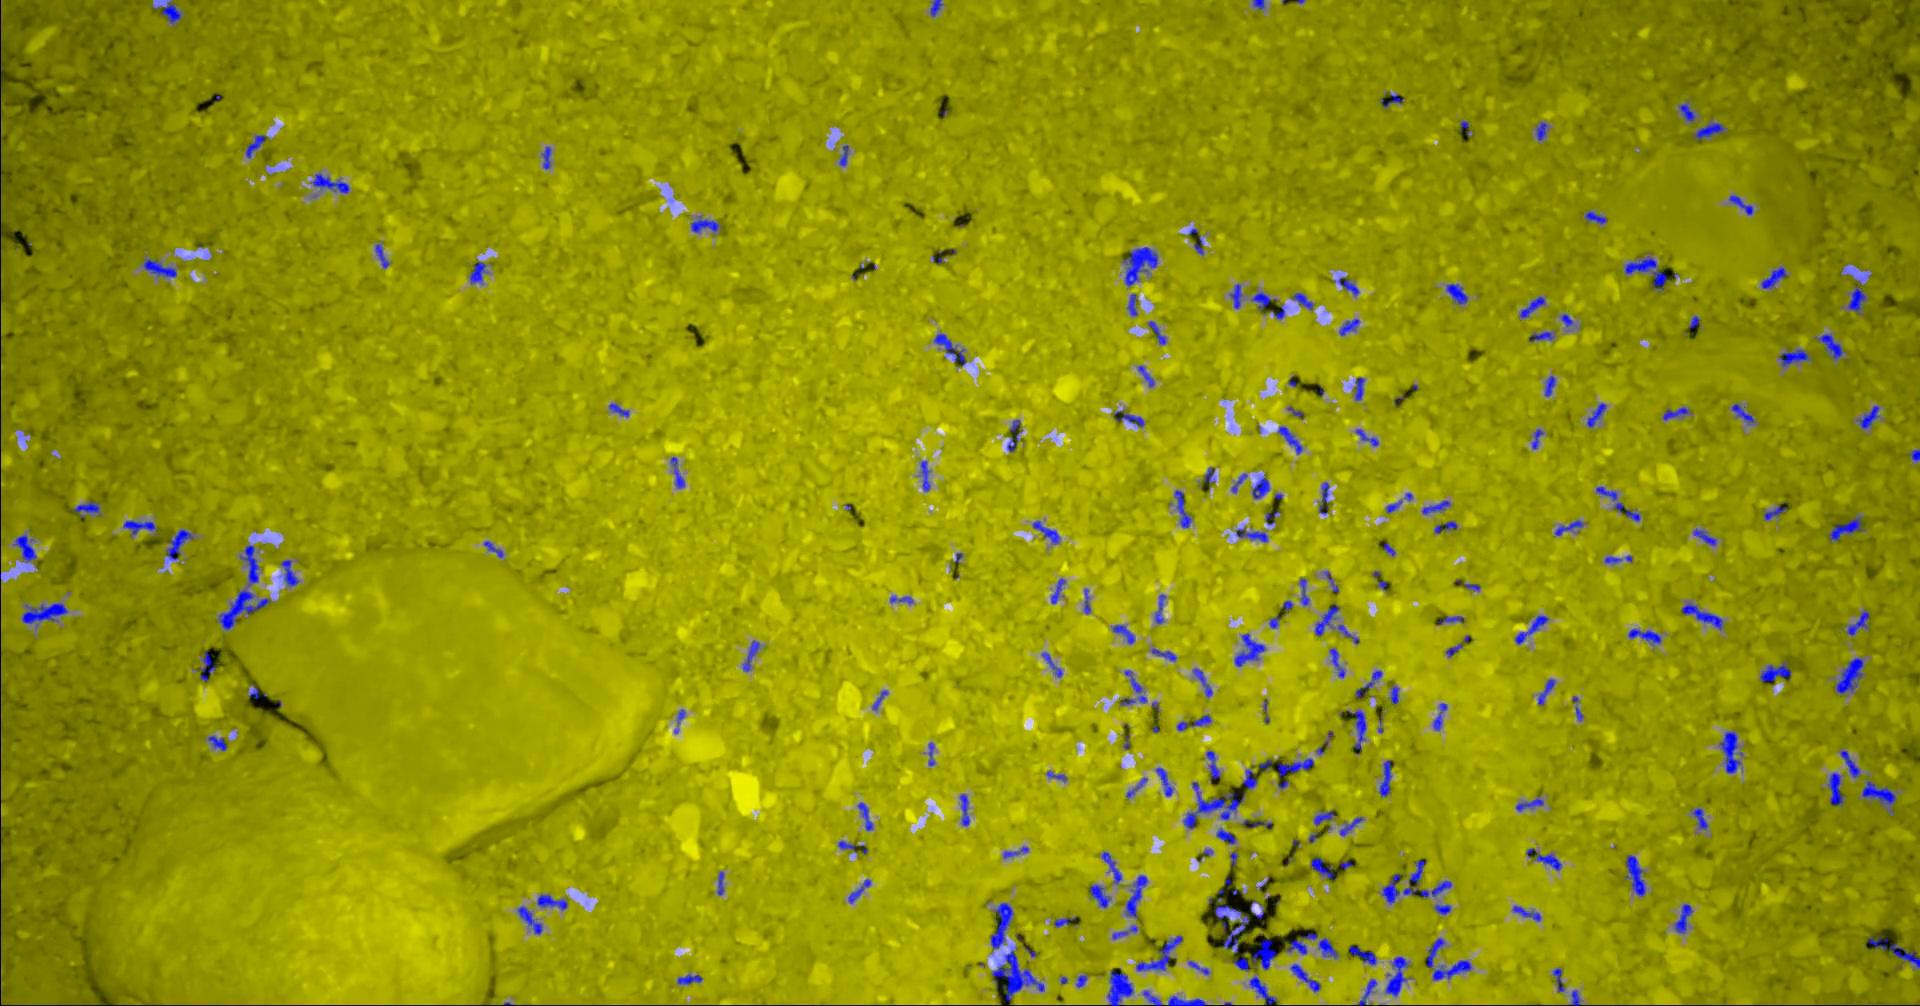ant: (1382, 859, 1451, 904), (990, 949, 1044, 1005), (1183, 781, 1244, 828), (1214, 888, 1250, 953), (218, 588, 269, 629), (1425, 937, 1470, 981), (1868, 935, 1919, 968), (1135, 935, 1182, 970), (1595, 486, 1641, 521), (1232, 937, 1276, 970), (1624, 257, 1667, 290), (1123, 246, 1157, 286), (22, 602, 67, 627), (1680, 603, 1722, 630), (1834, 657, 1863, 694), (933, 333, 966, 365), (1233, 633, 1265, 666), (1862, 780, 1895, 812), (1514, 615, 1548, 644), (990, 902, 1012, 948), (1106, 968, 1133, 1005), (1119, 669, 1145, 705), (1125, 874, 1147, 917), (1829, 514, 1862, 541), (1719, 730, 1740, 774), (165, 528, 193, 559), (1624, 854, 1644, 895), (1290, 963, 1321, 991), (1385, 956, 1407, 996), (1248, 976, 1276, 1005), (310, 173, 349, 193), (239, 544, 258, 586), (1355, 669, 1382, 699), (1347, 710, 1365, 753), (1815, 333, 1843, 359), (1526, 848, 1561, 870), (1314, 605, 1338, 635), (517, 906, 542, 934), (1285, 932, 1317, 954), (1277, 757, 1313, 776), (1277, 426, 1302, 453), (152, 0, 182, 23), (1759, 661, 1790, 681), (1101, 851, 1121, 883), (13, 533, 36, 561), (143, 258, 177, 277), (1175, 489, 1191, 527), (1760, 265, 1785, 290), (1032, 520, 1059, 542), (1627, 627, 1661, 645), (1848, 279, 1865, 312), (1176, 714, 1211, 730), (1846, 610, 1869, 635), (847, 878, 870, 903), (1192, 668, 1211, 697), (1855, 405, 1879, 428), (1519, 296, 1544, 318), (1693, 122, 1726, 138), (1779, 348, 1810, 366), (742, 640, 759, 671), (1674, 903, 1691, 934), (1840, 749, 1859, 777), (1349, 945, 1377, 964), (1310, 857, 1335, 879), (690, 215, 719, 232), (1041, 652, 1062, 677), (279, 559, 298, 586), (1357, 978, 1377, 1005), (1827, 772, 1843, 805), (1731, 403, 1754, 424), (1250, 292, 1275, 311), (1586, 401, 1605, 427), (1006, 419, 1021, 451), (1236, 527, 1267, 542), (1537, 678, 1556, 704), (536, 894, 568, 909), (1156, 767, 1172, 796), (1112, 410, 1143, 426), (1090, 884, 1110, 907), (123, 520, 156, 533), (1512, 904, 1540, 921), (245, 133, 264, 158), (1335, 276, 1359, 295), (1338, 815, 1363, 835), (1554, 520, 1583, 535), (199, 652, 215, 681), (670, 456, 684, 488), (72, 500, 99, 517), (1445, 283, 1467, 304), (1125, 777, 1147, 798), (1111, 624, 1134, 643), (1728, 196, 1752, 213), (1147, 320, 1164, 344), (1763, 502, 1787, 520), (857, 801, 872, 829), (837, 840, 867, 854), (1379, 760, 1390, 796), (1421, 500, 1450, 514), (1330, 648, 1343, 677), (1205, 749, 1219, 779), (1432, 702, 1446, 730), (1050, 578, 1065, 603), (1337, 624, 1357, 643), (1318, 937, 1337, 958), (1167, 995, 1205, 1005), (1137, 365, 1154, 386), (469, 260, 485, 283), (1355, 428, 1378, 445), (1693, 528, 1716, 545), (1318, 481, 1330, 513), (1338, 318, 1359, 335), (1313, 809, 1335, 826), (1662, 406, 1688, 420), (1515, 798, 1543, 810), (1111, 925, 1137, 939), (1691, 807, 1707, 829), (375, 243, 389, 267), (1291, 292, 1312, 309), (1252, 478, 1269, 498), (483, 541, 503, 558), (871, 690, 888, 710), (959, 793, 969, 826), (919, 460, 930, 492), (1150, 648, 1176, 661), (1379, 93, 1402, 107), (1434, 520, 1457, 533), (1241, 768, 1257, 788), (1215, 828, 1236, 843), (1229, 283, 1242, 307), (1552, 968, 1564, 992), (1187, 960, 1209, 974), (1677, 103, 1694, 121), (1583, 211, 1606, 224), (1003, 846, 1029, 857), (677, 973, 702, 984), (608, 403, 629, 417), (1299, 577, 1309, 605), (1154, 594, 1164, 622), (1143, 989, 1161, 1005), (207, 735, 226, 749), (1053, 916, 1076, 927), (1544, 375, 1556, 396), (1354, 377, 1364, 400), (1531, 428, 1543, 448), (1241, 819, 1271, 827), (1528, 332, 1553, 340), (1437, 615, 1463, 624), (838, 145, 848, 166), (1126, 293, 1137, 315), (1604, 555, 1632, 563), (930, 0, 942, 17), (1535, 122, 1547, 140), (541, 146, 550, 169), (889, 594, 912, 603), (1559, 312, 1573, 326), (1385, 500, 1401, 513), (1434, 904, 1450, 915), (1083, 588, 1090, 614), (1203, 467, 1214, 481), (716, 871, 723, 895), (928, 742, 935, 765), (1570, 989, 1578, 1005), (1390, 686, 1398, 702), (1252, 0, 1263, 9)
